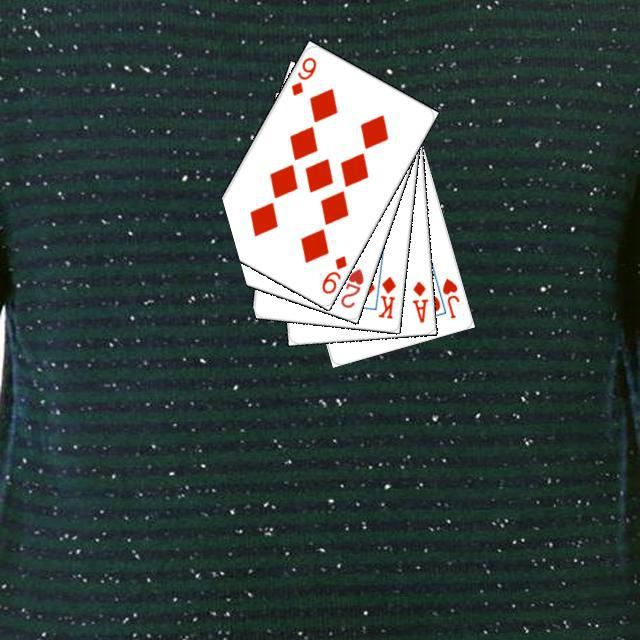2h: (336, 264, 365, 310)
9d: (316, 250, 349, 296), (286, 52, 318, 98)
Ad: (407, 276, 430, 324)
Jh: (437, 273, 461, 320)
Kd: (373, 271, 398, 320)
